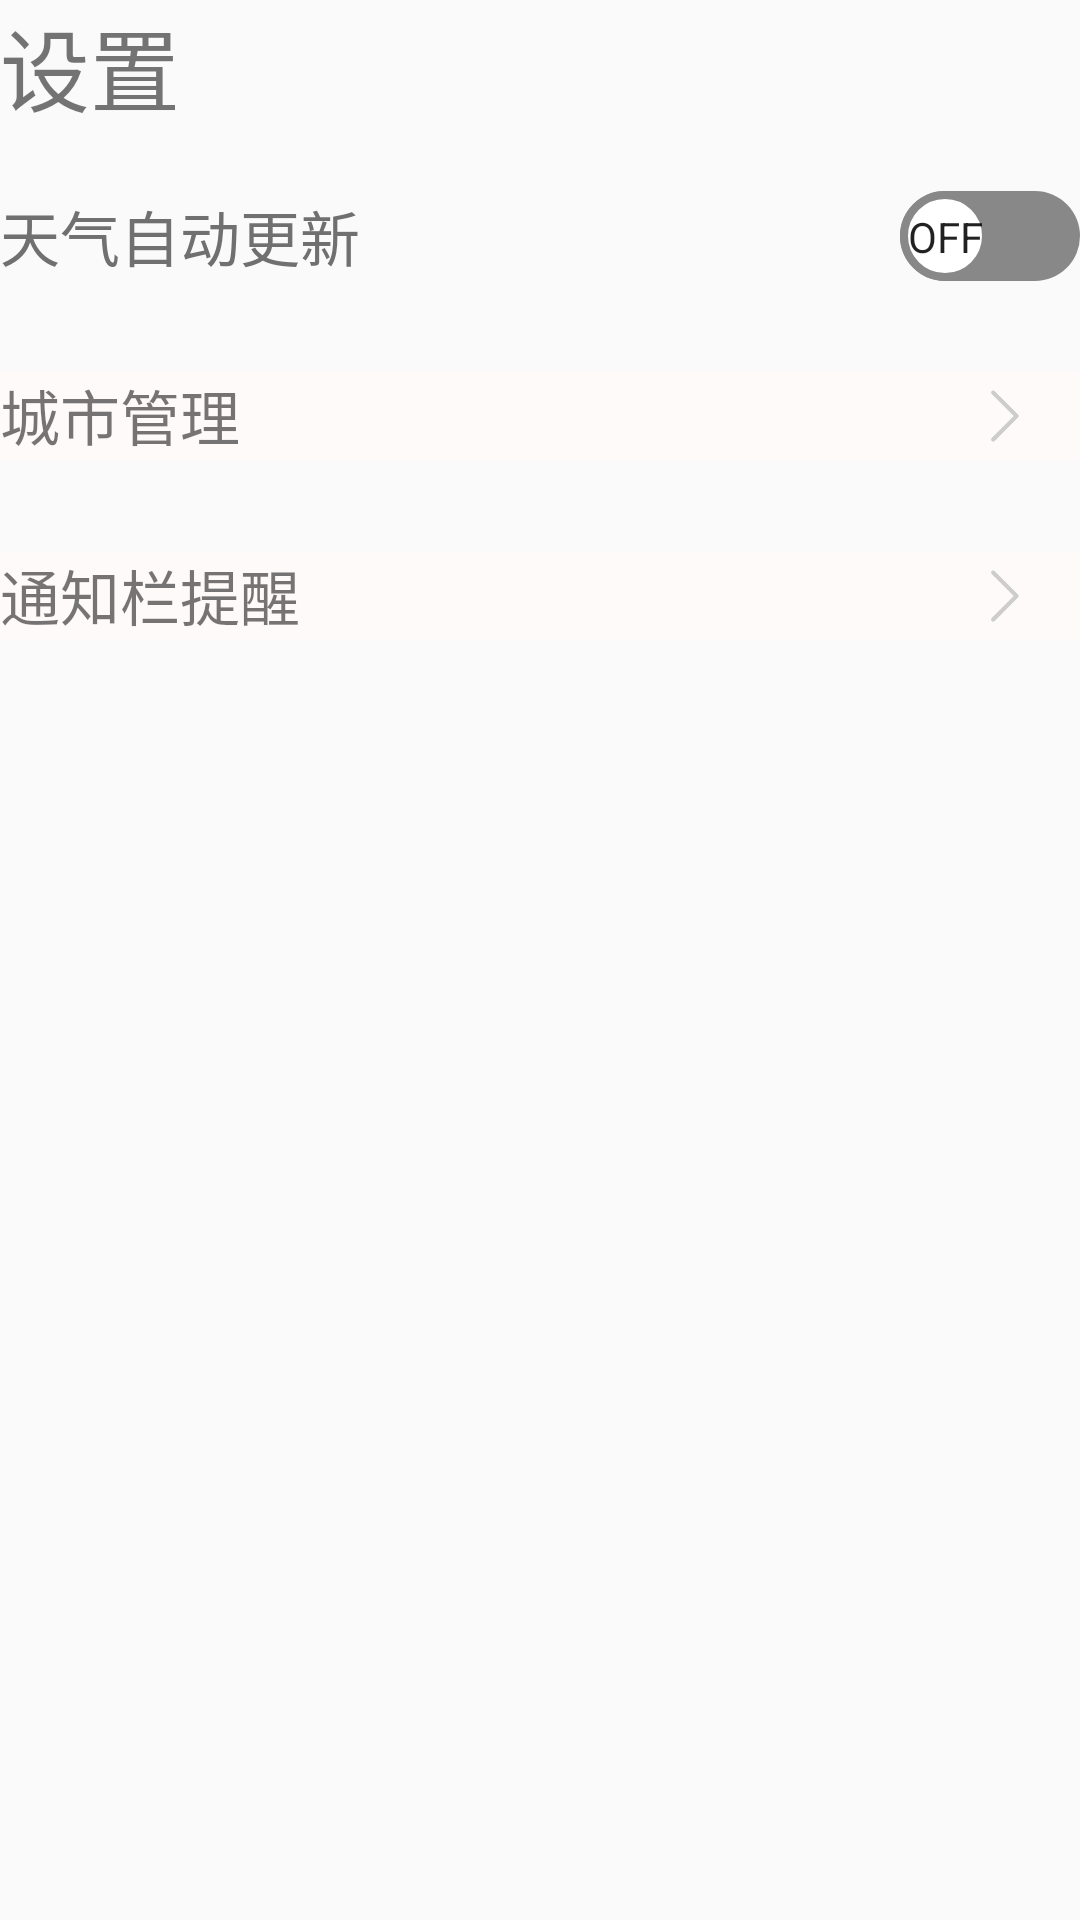

Locate icon controls on the screen. Image size 1080px×1920px, boxes as (x1, y1, x2, y2).
toright: (991, 390, 1019, 442), (991, 570, 1019, 622)
